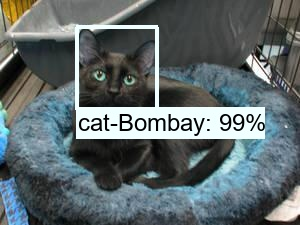cat-Bombay: (76, 28, 157, 112)
